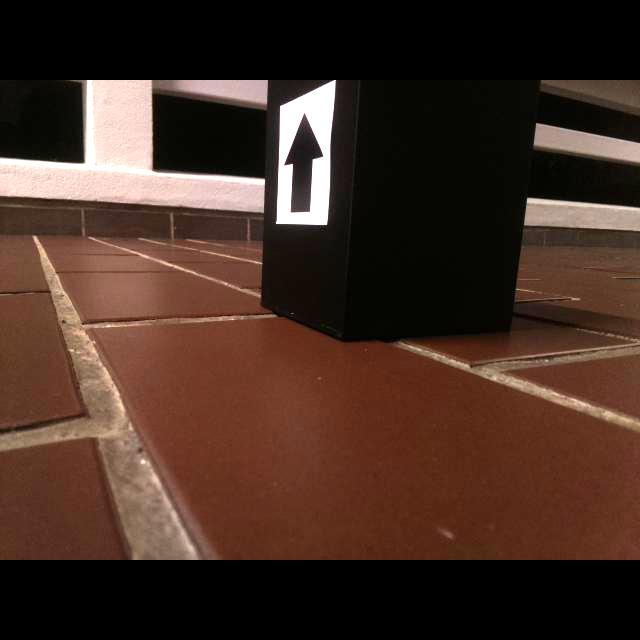UP: (283, 111, 324, 214)
